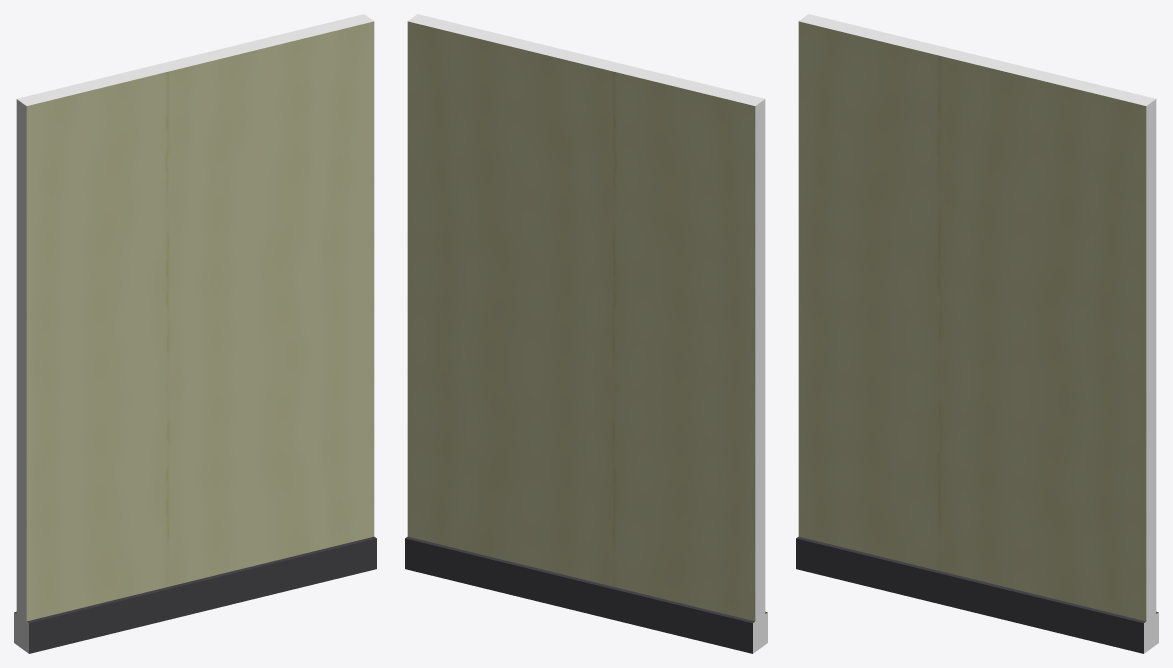
File: SM_Buildings_Wall_2x3_01_DoubleWallpaper.fbx
The picture shows the model from 3 angles, left to right: view 1: azimuth 30°, elevation 25°; view 2: azimuth 150°, elevation 25°; view 3: azimuth 330°, elevation 25°; orthographic projection.
Visible parts, largest first — view 1: SM_Buildings_Wall_2x3_01_DoubleWallpaper; view 2: SM_Buildings_Wall_2x3_01_DoubleWallpaper; view 3: SM_Buildings_Wall_2x3_01_DoubleWallpaper.
Boxes of the visible parts, left/top/right/bottom form: SM_Buildings_Wall_2x3_01_DoubleWallpaper: left=14, top=14, right=376, bottom=653; SM_Buildings_Wall_2x3_01_DoubleWallpaper: left=405, top=14, right=767, bottom=653; SM_Buildings_Wall_2x3_01_DoubleWallpaper: left=796, top=14, right=1158, bottom=653.
Size of the model in its own units: 200 by 300 by 15.
Materials: 1 (1 with a texture image).
